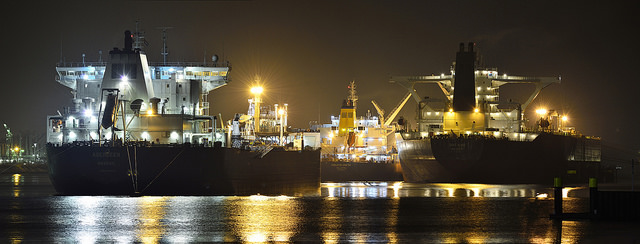tanker: (48, 37, 323, 200), (395, 51, 604, 186)
